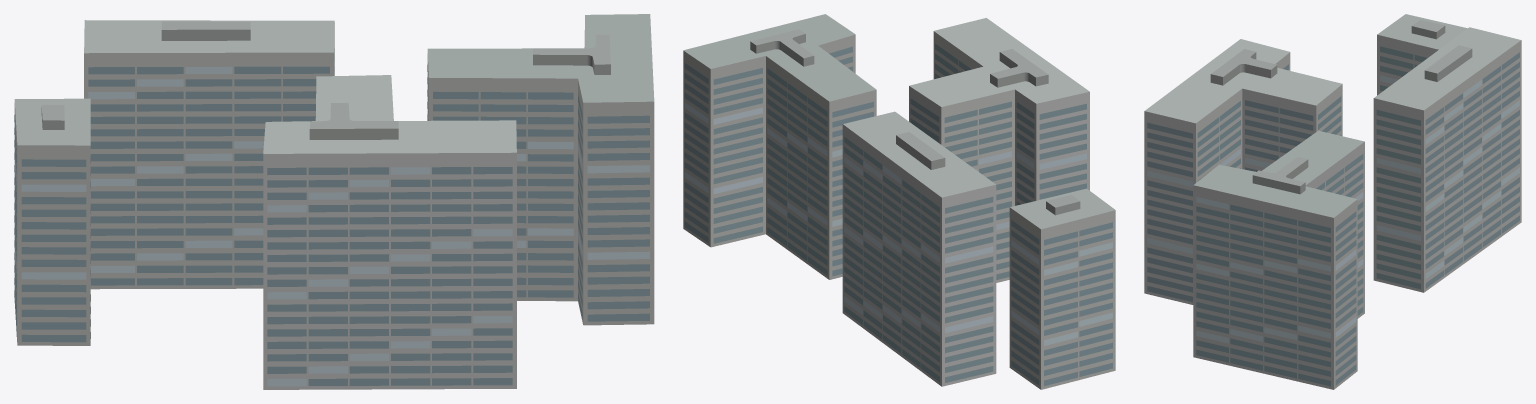
File: apt-a15283704.glb
The picture shows the model from 3 angles, left to right: view 1: azimuth 30°, elevation 25°; view 2: azimuth 150°, elevation 25°; view 3: azimuth 270°, elevation 25°; orthographic projection. The views are drawn at different scales.
Parts seen in each view (by area): view 1: apt-a15283704; view 2: apt-a15283704; view 3: apt-a15283704.
Boxes of the visible parts, x1,y1,x2,y2 form: apt-a15283704: (14, 14, 654, 389); apt-a15283704: (683, 14, 1115, 389); apt-a15283704: (1144, 14, 1521, 389).
Size of the model in its own units: 132 by 53 by 94.83.
